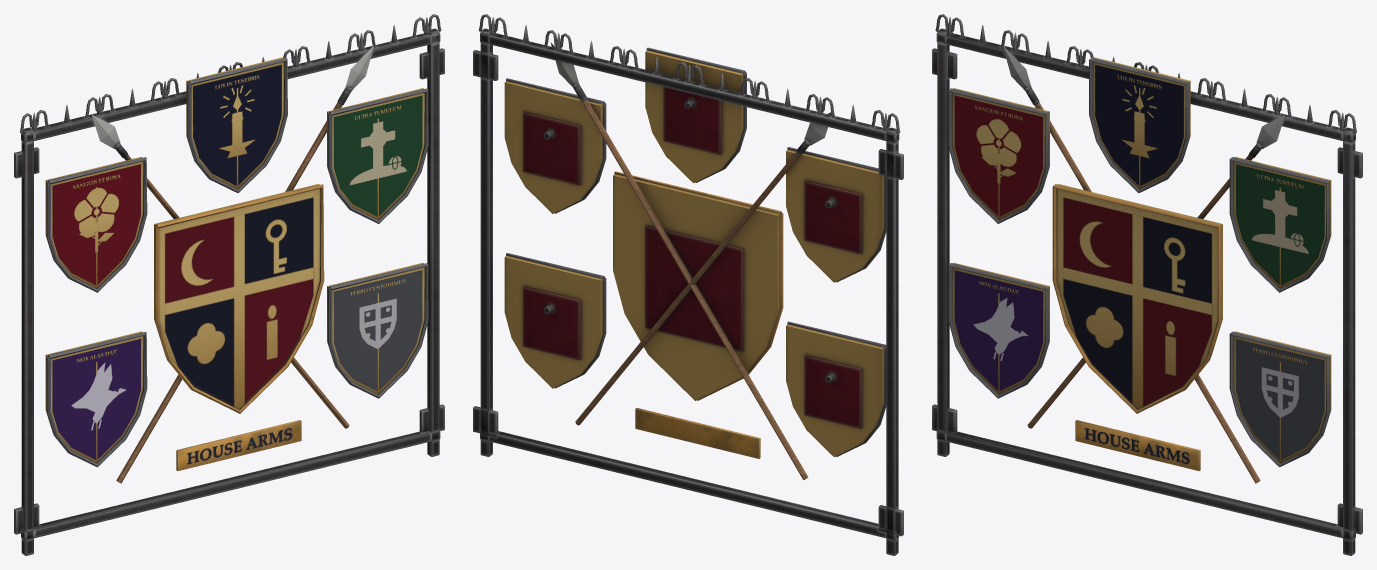
Rendered from ShieldWall.fbx.
3 views of the same model, side by side, from view 1: azimuth 30°, elevation 25°; view 2: azimuth 150°, elevation 25°; view 3: azimuth 330°, elevation 25° (orthographic).
Parts seen in each view (by area): view 1: ShieldWall; view 2: ShieldWall; view 3: ShieldWall.
Part boxes in pixels (<box>): ShieldWall: <box>14,14,444,555</box>; ShieldWall: <box>473,14,903,555</box>; ShieldWall: <box>932,14,1362,555</box>.
Bounding box in the file's own units: 656 × 644 × 32.5.
